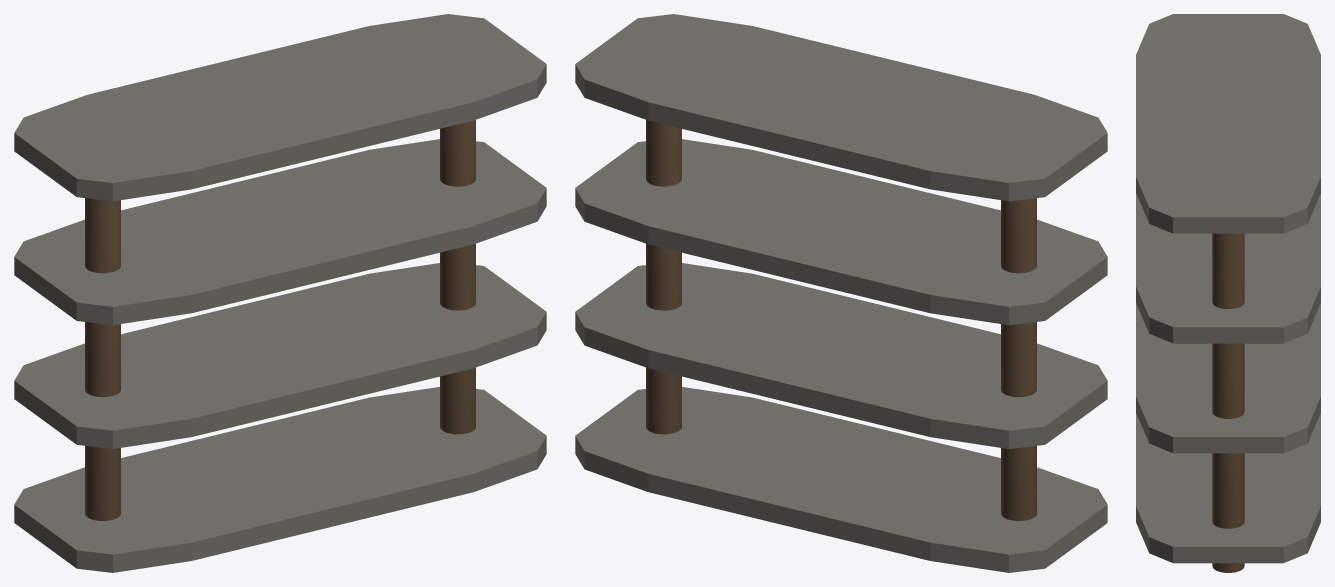
Rendered from shelf.glb.
3 views of the same model, side by side, from view 1: azimuth 30°, elevation 25°; view 2: azimuth 150°, elevation 25°; view 3: azimuth 270°, elevation 25° (orthographic). The views are drawn at different scales.
Visible parts, largest first — view 1: Cube.003, Cylinder; view 2: Cube.003, Cylinder; view 3: Cube.003, Cylinder.
Boxes of the visible parts, box(x1,y1,x2,y2) form: Cube.003: box(14, 14, 546, 572); Cylinder: box(85, 120, 475, 520); Cube.003: box(575, 14, 1107, 572); Cylinder: box(646, 120, 1036, 520); Cube.003: box(1136, 14, 1320, 563); Cylinder: box(1212, 233, 1244, 572).
Size of the model in its own units: 7.94 by 6.8 by 3.05.
